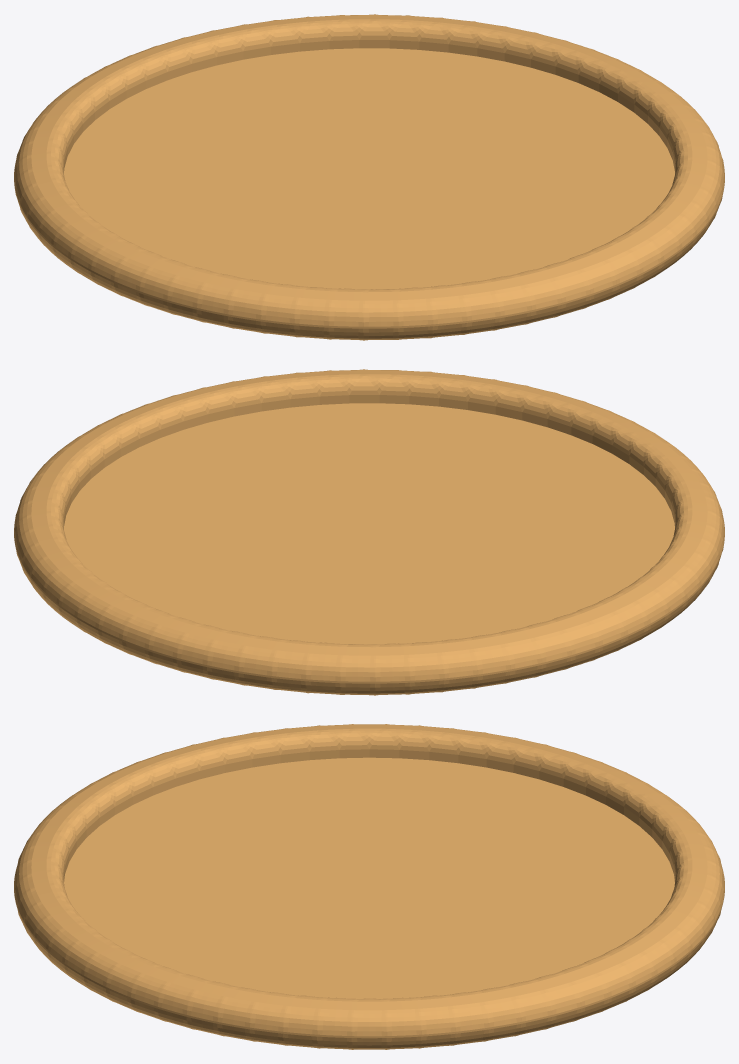
Rendered from pizza.fbx.
The picture shows the model from 3 angles, top to bottom: view 1: azimuth 30°, elevation 25°; view 2: azimuth 150°, elevation 25°; view 3: azimuth 270°, elevation 25°; orthographic projection.
Visible parts, largest first — view 1: Pizza; view 2: Pizza; view 3: Pizza.
Part boxes in pixels (x1,y1,x2,y2): Pizza: (14,14,724,340); Pizza: (14,369,724,695); Pizza: (14,724,724,1049).
Bounding box in the file's own units: 232 × 17.89 × 232.
